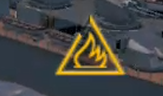1fire: (48, 43, 128, 77)
